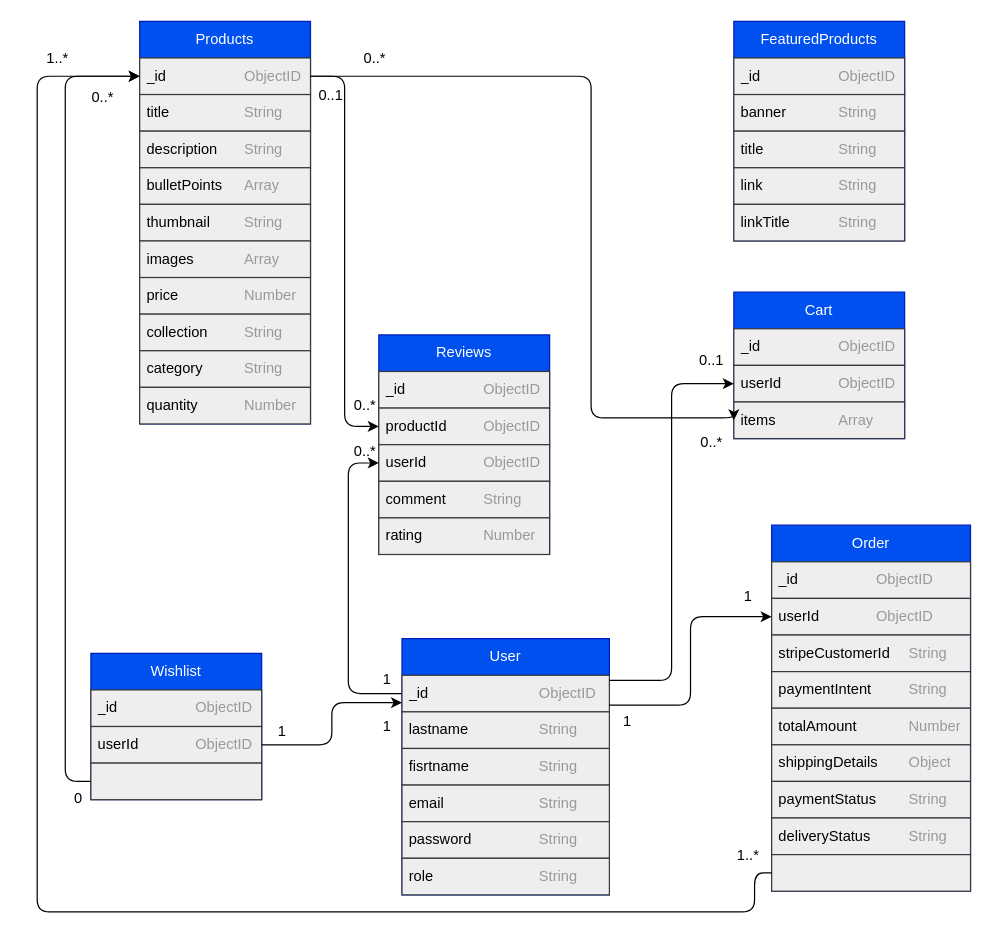
The diagram is 992 pixels wide and 943 high, and some of its shapes have lost their labels. The centre of each missing label's shape, as x and y in pixels:
"orderItems Array" goes at point (870, 872).
"products Array" goes at point (176, 781).
